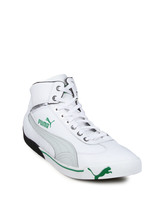shoes: (18, 74, 145, 183)
